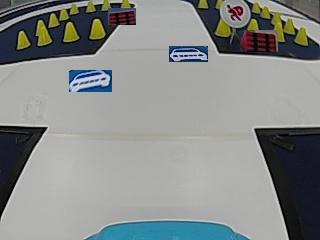thief: (218, 0, 252, 27)
